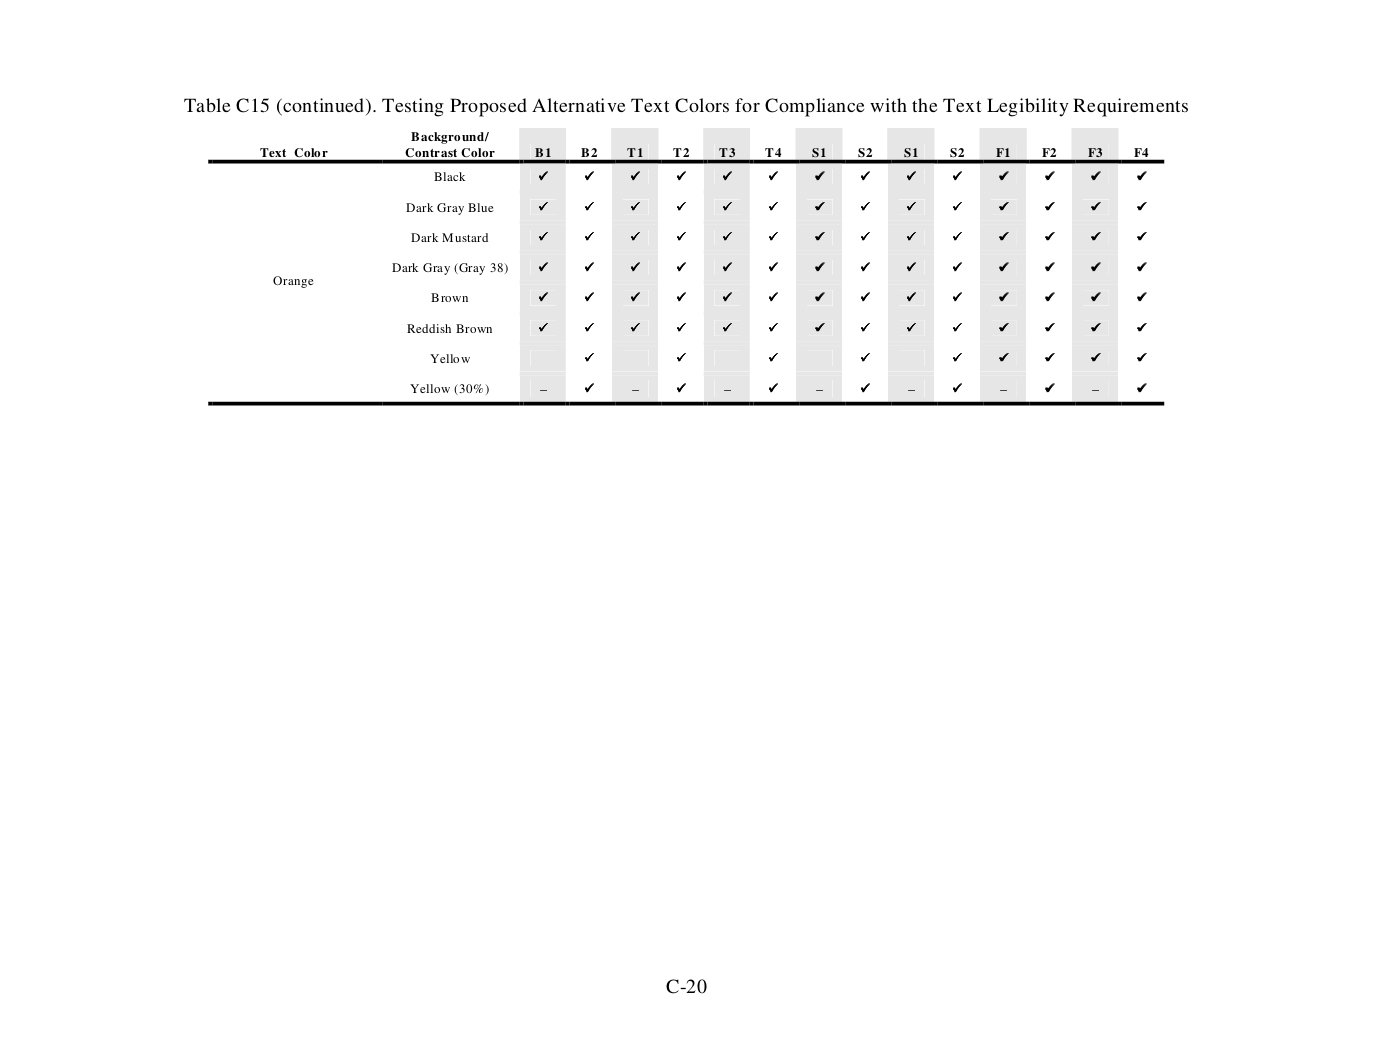Table: (208, 127, 1163, 406)
